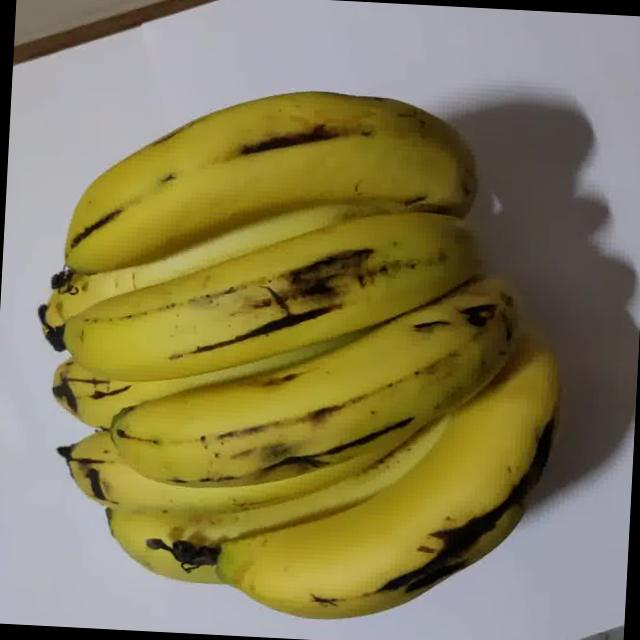banana_pacche: (15, 20, 640, 640)
